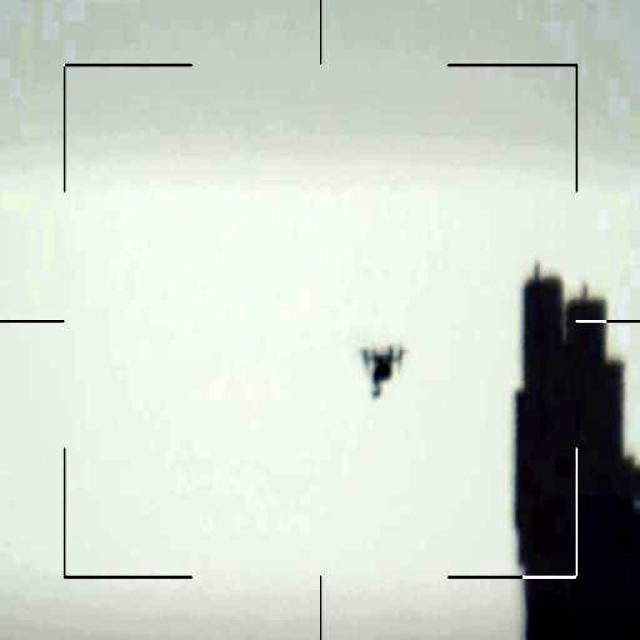bird: (356, 340, 411, 404)
